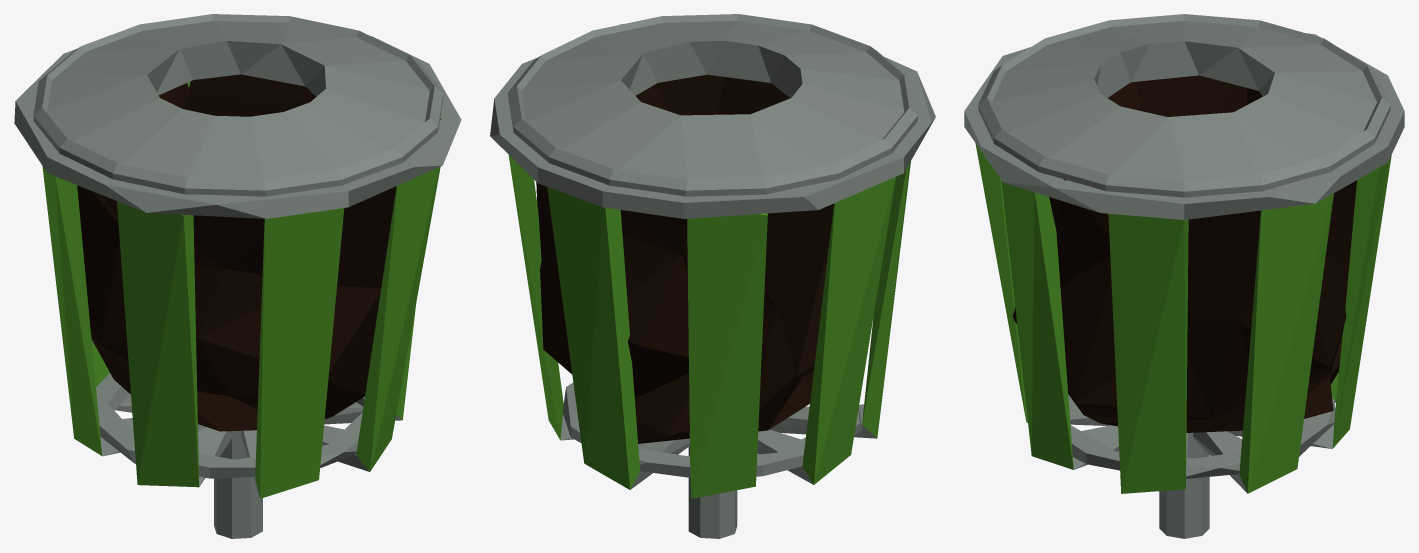
File: Bin.fbx
3 views of the same model, side by side, from view 1: azimuth 30°, elevation 25°; view 2: azimuth 150°, elevation 25°; view 3: azimuth 270°, elevation 25° (orthographic).
Parts seen in each view (by area): view 1: Bin; view 2: Bin; view 3: Bin.
Boxes of the visible parts, x1,y1,x2,y2 form: Bin: (14,14,461,538); Bin: (490,14,935,538); Bin: (964,14,1404,538).
Bounding box in the file's own units: 92.97 × 105 × 92.97.
